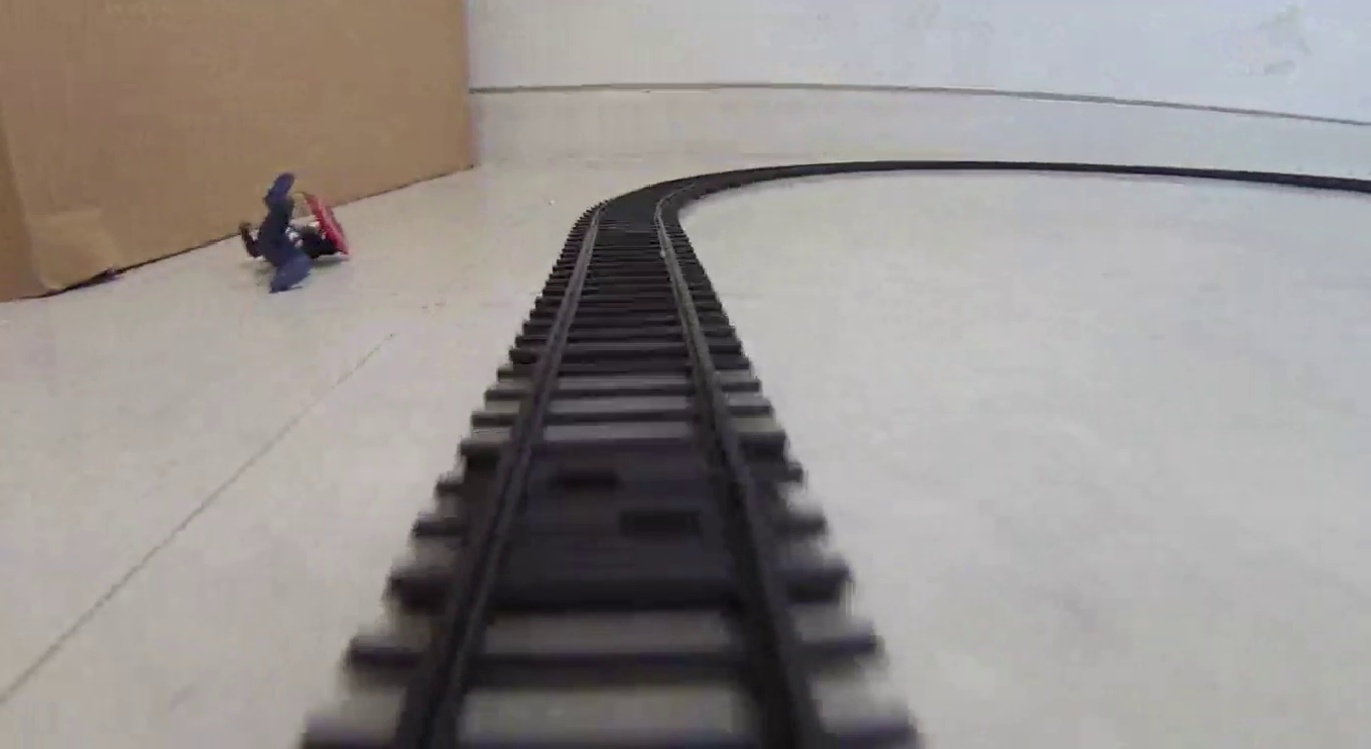people: (238, 172, 354, 294)
